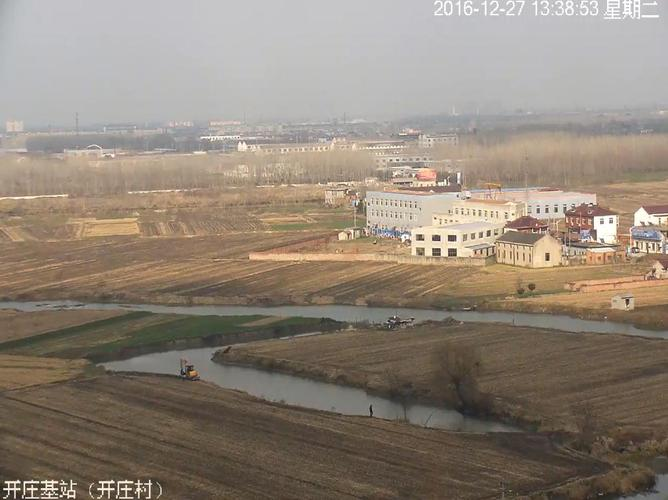digger: (177, 355, 200, 382)
